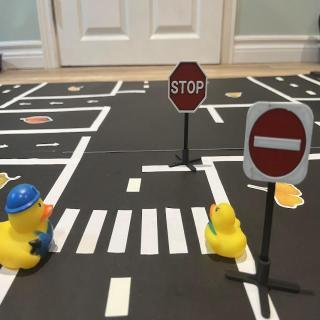duck_regular: (205, 204, 250, 260)
duck_specialty: (2, 184, 56, 274)
road_crosswalk: (46, 203, 224, 259)
road_oneway: (36, 141, 62, 151), (49, 101, 67, 108), (1, 143, 11, 153), (18, 103, 34, 109), (86, 101, 104, 105)
sign_noentry: (243, 102, 315, 186)
sign_stop: (169, 62, 207, 114)
